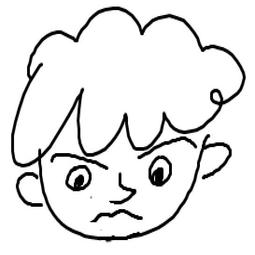ear: (13, 169, 48, 209), (199, 141, 233, 182)
eye: (147, 154, 174, 192), (64, 162, 95, 195)
frowning_eyebrow: (135, 136, 196, 160), (44, 151, 112, 170)
line_unsmiling_mouth: (84, 208, 144, 224)
pointy_nose: (106, 171, 141, 207)
